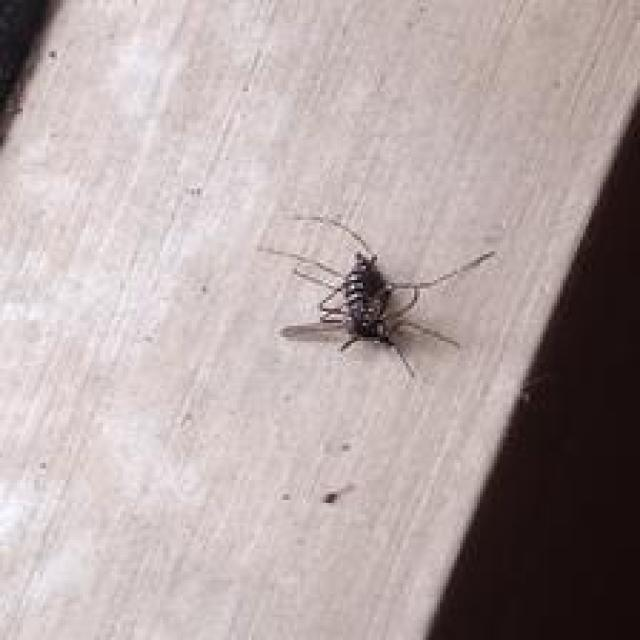Aedes albopictus: (255, 210, 496, 379)
